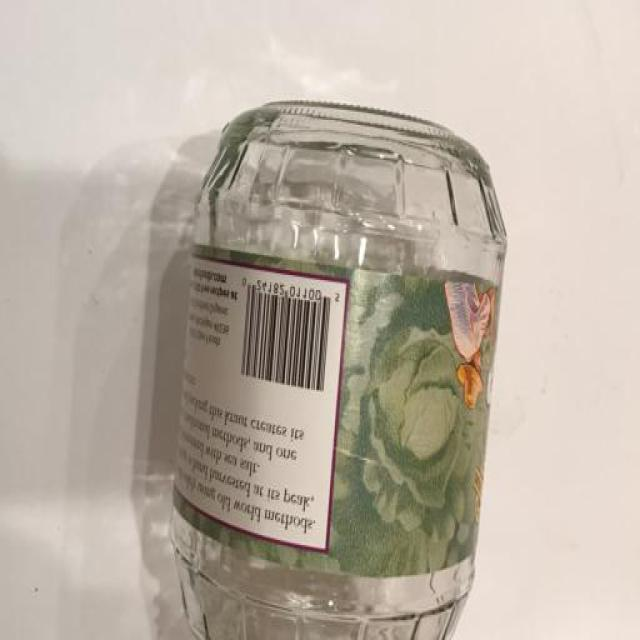glass: (171, 102, 508, 640)
